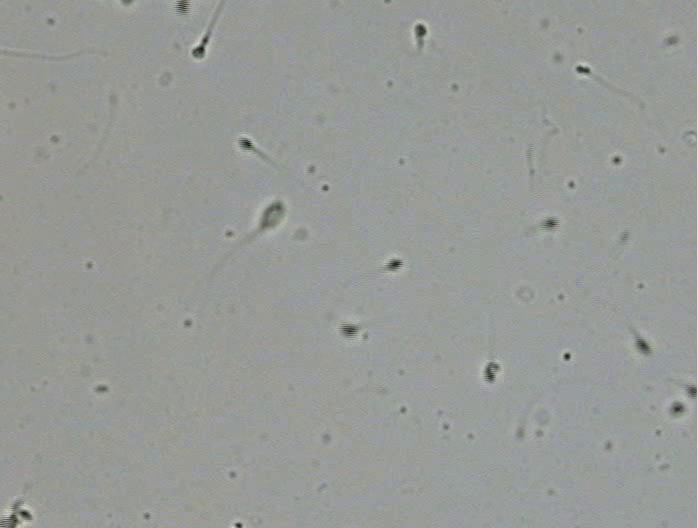S: (259, 201, 285, 230), (338, 323, 359, 338), (483, 363, 497, 383), (635, 338, 651, 355), (1, 512, 17, 528), (174, 1, 190, 16), (238, 137, 254, 152), (385, 258, 403, 270), (542, 218, 559, 230), (192, 45, 205, 59), (18, 510, 34, 521), (686, 384, 697, 399), (415, 24, 426, 38), (576, 65, 591, 75), (672, 403, 684, 415)
